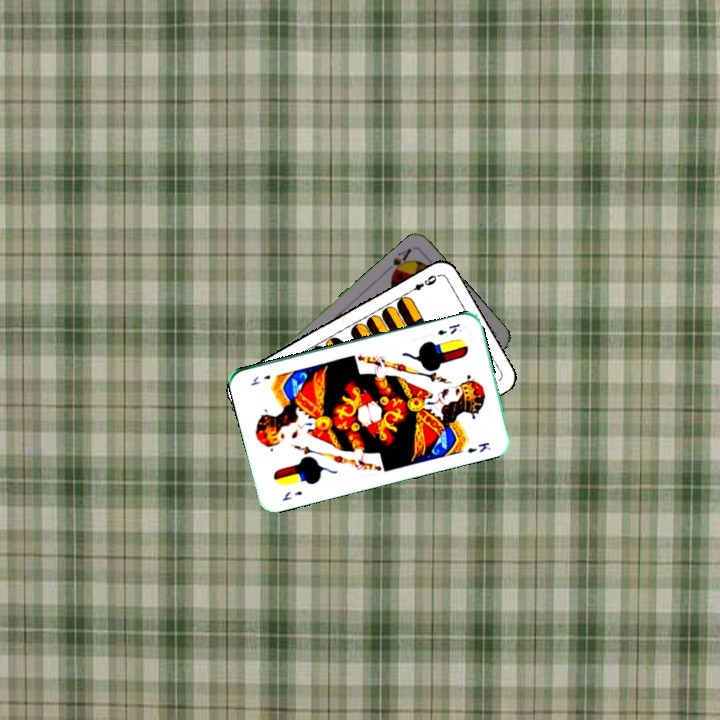E9: (403, 271, 439, 296)
EK: (433, 320, 462, 338), (278, 487, 305, 503)
SA: (382, 244, 414, 279)
